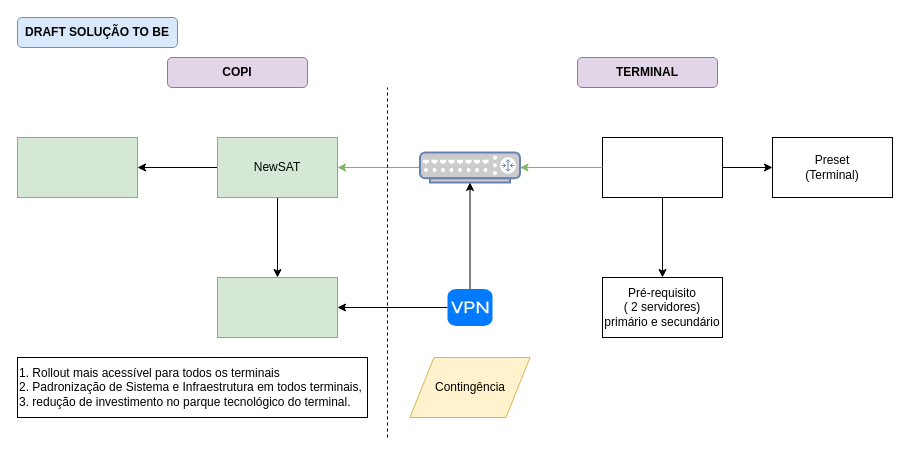
This 910x456 diagram has some shape labels left out. The shapes that lost their labels are listed below. From the top down, each one's box as (x1, y1, x2, y2) in pixels, then its label:
(16, 136, 138, 198): SAPTAS
(418, 151, 520, 183): SD-WAN
(602, 136, 722, 198): Serviço Driver (Terminal)
(216, 276, 338, 338): 1 Servidor WEB 1 Servidor de BD
